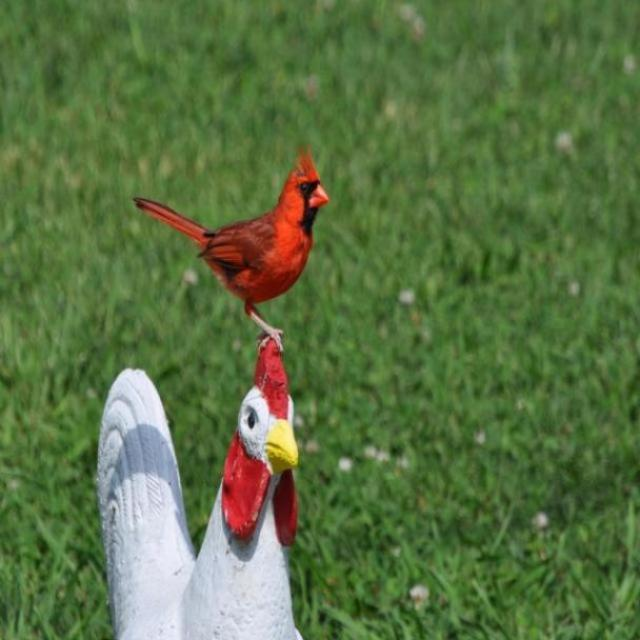Chicken: (100, 337, 304, 640), (273, 140, 331, 353)
